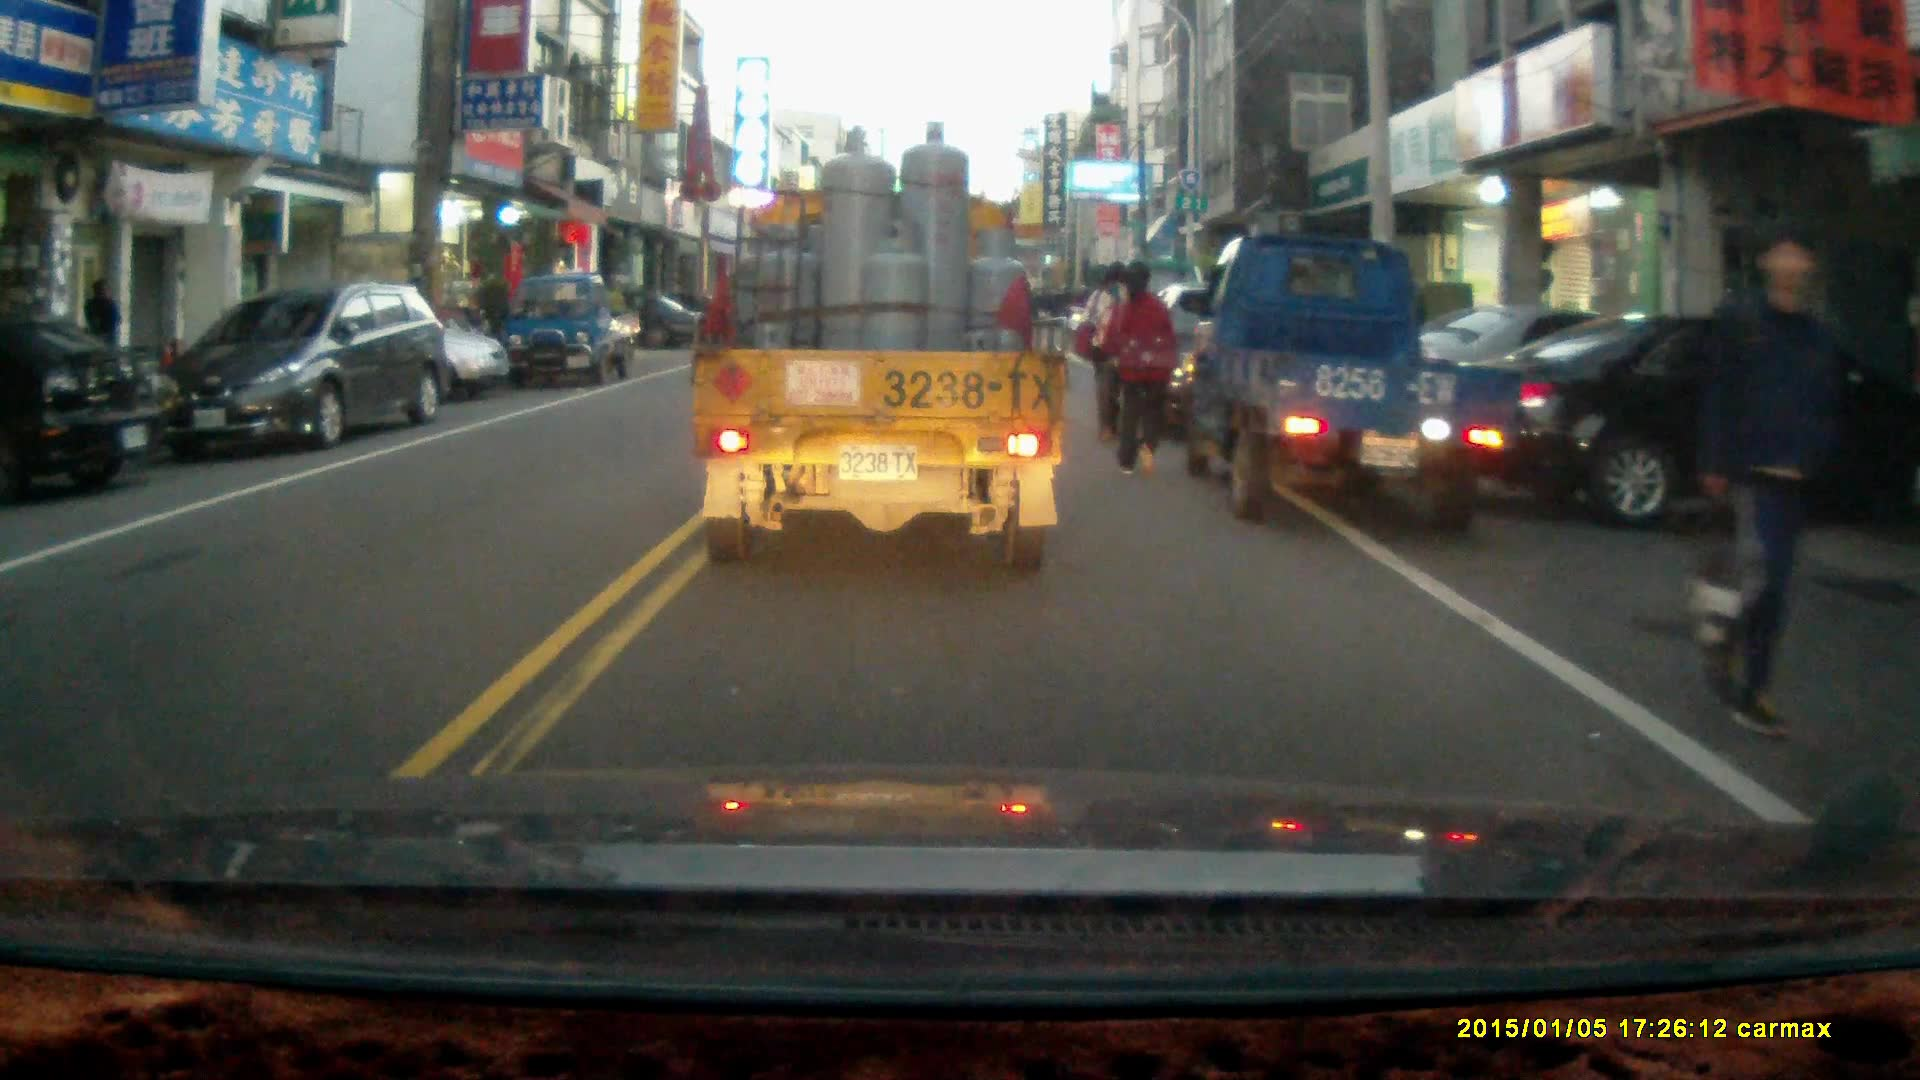pedestrian: (1696, 226, 1856, 744), (1100, 258, 1179, 477), (1080, 258, 1141, 438), (77, 274, 124, 386)
vehicle: (689, 122, 1069, 577), (1182, 233, 1523, 535), (151, 281, 453, 458), (1, 313, 171, 505), (246, 293, 510, 407), (500, 272, 638, 390)
